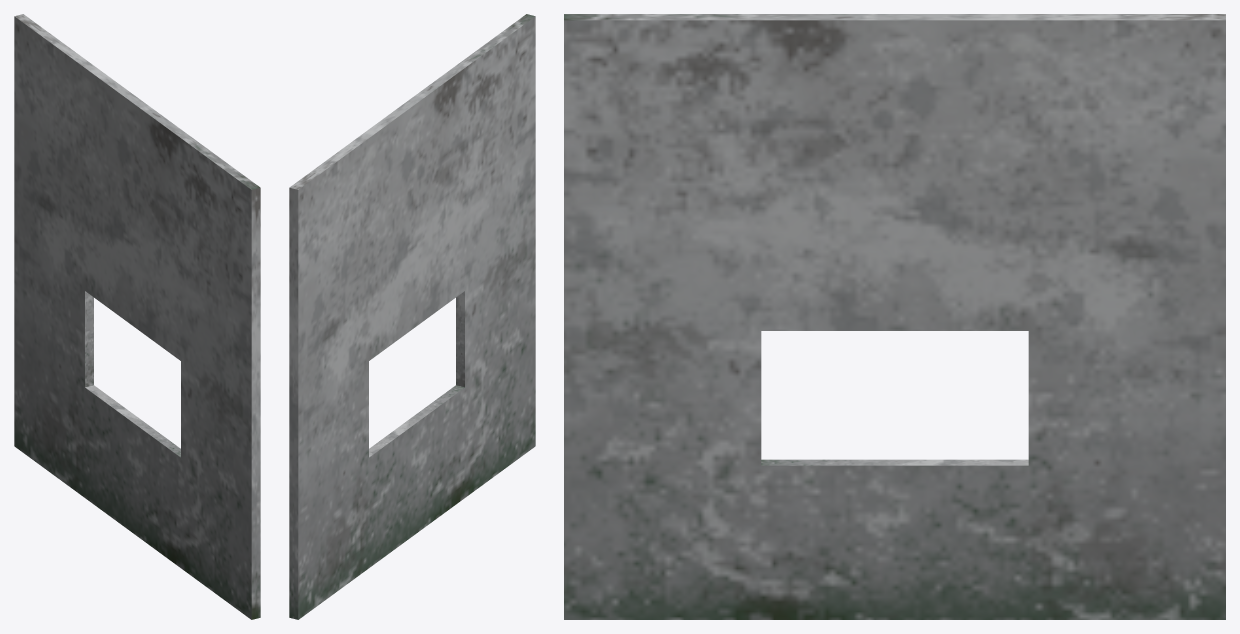
The model's file is WindowWallGrey_SM.fbx.
3 renders of one model, left to right at view 1: azimuth 30°, elevation 25°; view 2: azimuth 150°, elevation 25°; view 3: azimuth 270°, elevation 25°, orthographic. The views are drawn at different scales.
Visible parts, largest first — view 1: WindowWall; view 2: WindowWall; view 3: WindowWall.
Part boxes in pixels (x1,y1,x2,y2): WindowWall: (14,14,260,619); WindowWall: (289,14,535,619); WindowWall: (564,14,1225,619).
Size of the model in its own units: 10 by 450 by 450.
Materials: 1 (1 with a texture image).
